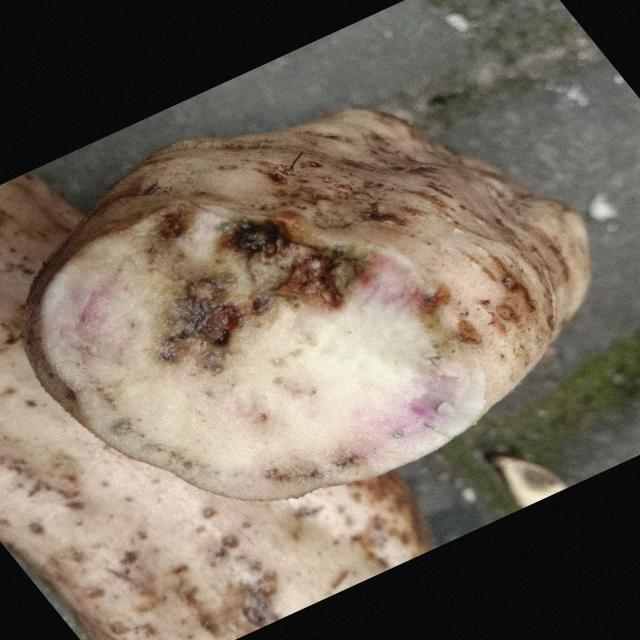Sick Sweet Potato_Tuber Rot: (28, 204, 487, 500)
